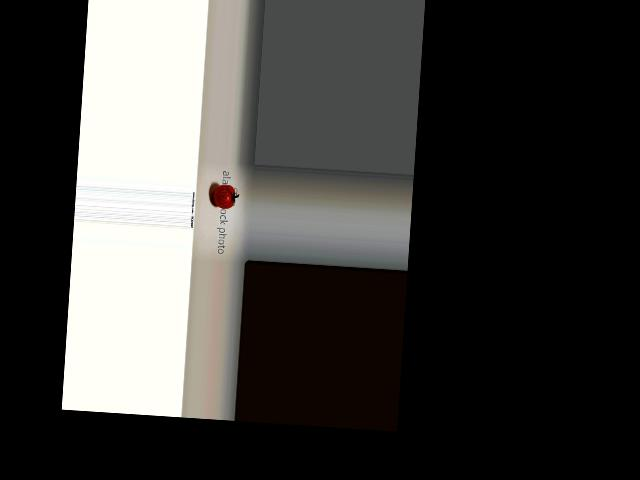tomato: (212, 184, 235, 209)
